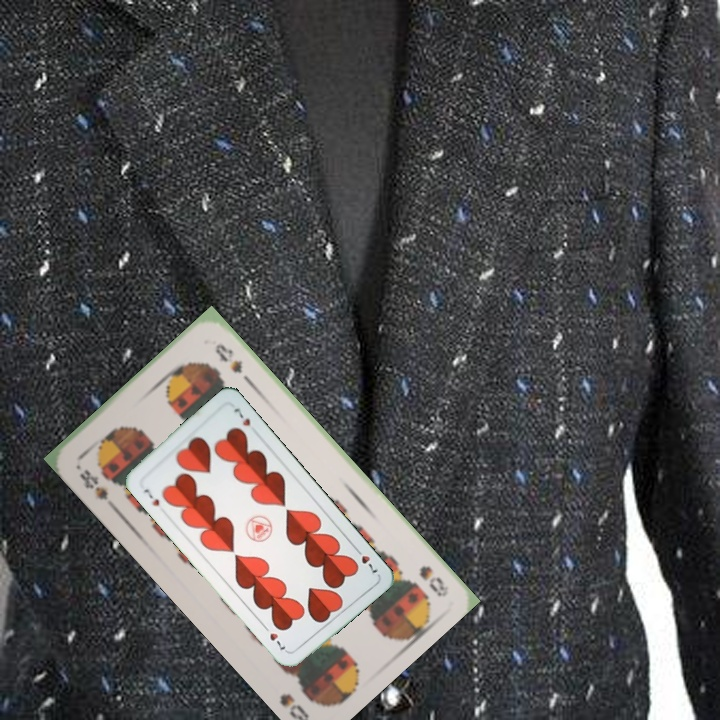H7: (350, 543, 380, 576), (138, 484, 162, 509)
S8: (75, 465, 117, 509), (415, 561, 452, 600)
